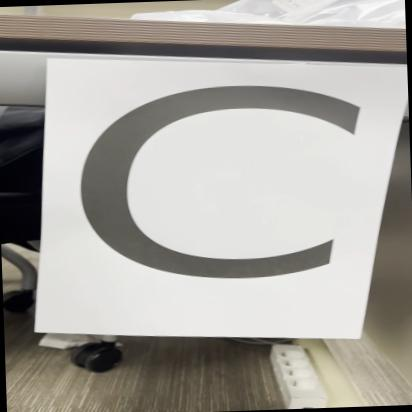seat: (52, 48, 384, 350)
